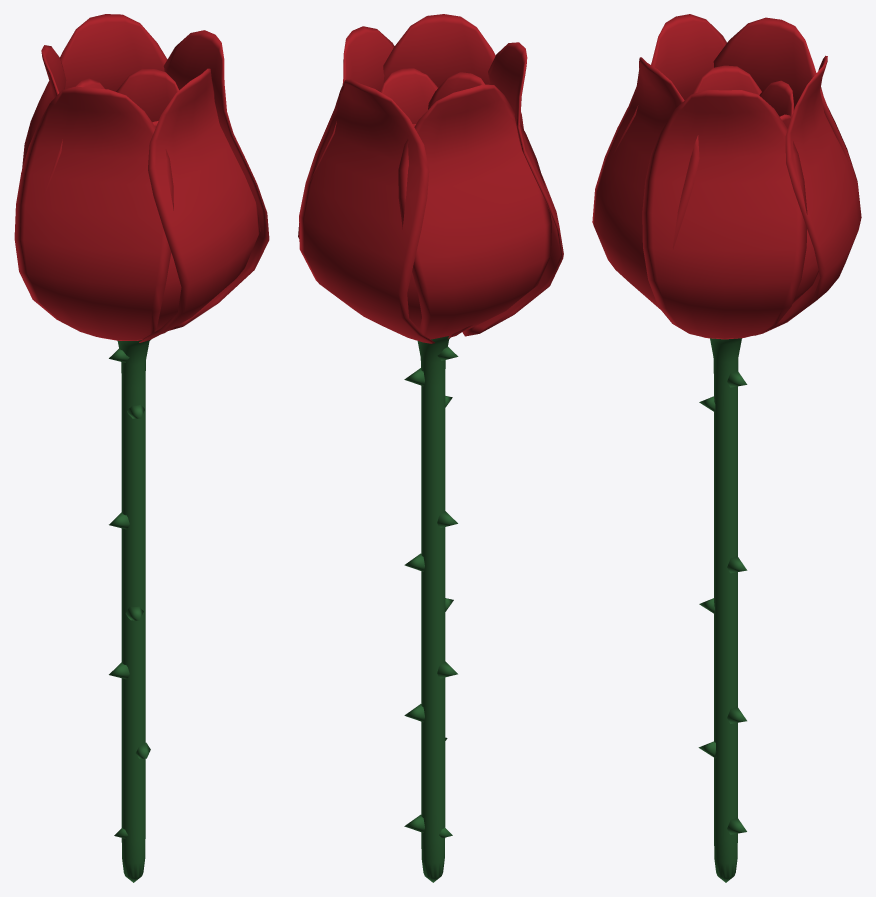
The model's file is rosa_espinas.fbx.
3 views of the same model, side by side, from view 1: azimuth 30°, elevation 25°; view 2: azimuth 150°, elevation 25°; view 3: azimuth 270°, elevation 25° (orthographic).
Visible parts, largest first — view 1: rose; view 2: rose; view 3: rose.
Part boxes in pixels (box(x1,y1,x2,y2)): rose: box(14, 14, 269, 882); rose: box(298, 14, 563, 882); rose: box(592, 14, 861, 882).
Bounding box in the file's own units: 63.52 × 221 × 64.57.
